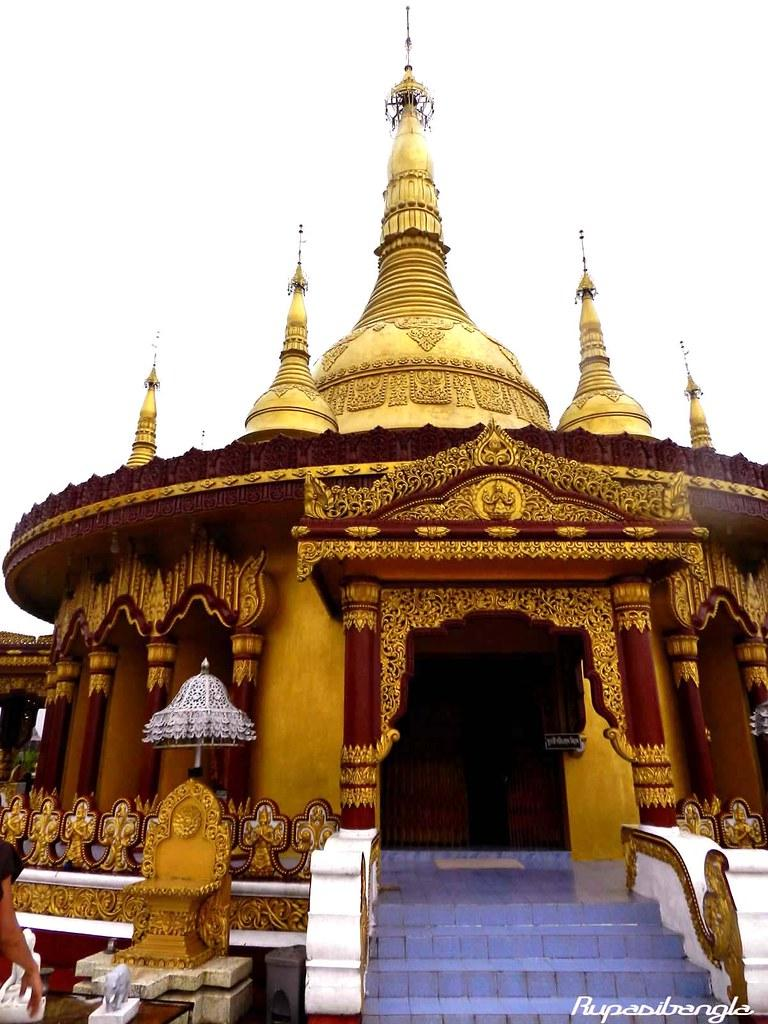temple: (2, 5, 767, 1022)
